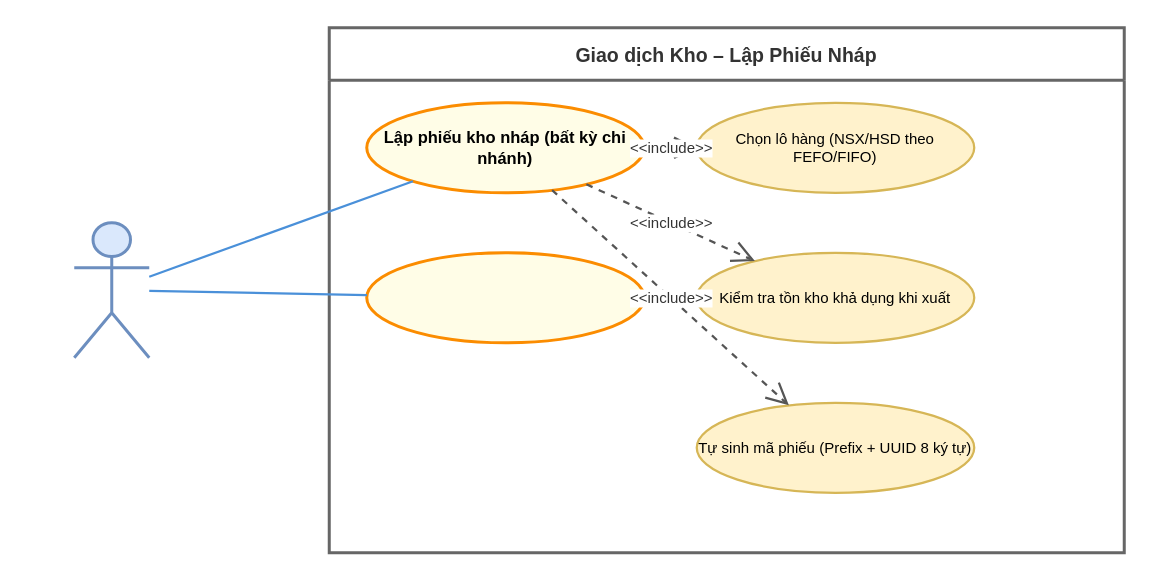
Image size: 1151x579. Some labels were removed from this diagram. The shapes that lost their labels are listed below. From the top down, each one's box as (x1, y1, x2, y2) in pixels, then its label:
(72, 220, 150, 358): Quản trị viên (ADMIN)
(364, 250, 645, 344): Sửa / Xóa phiếu nháp (chỉ khi còn DRAFT)
